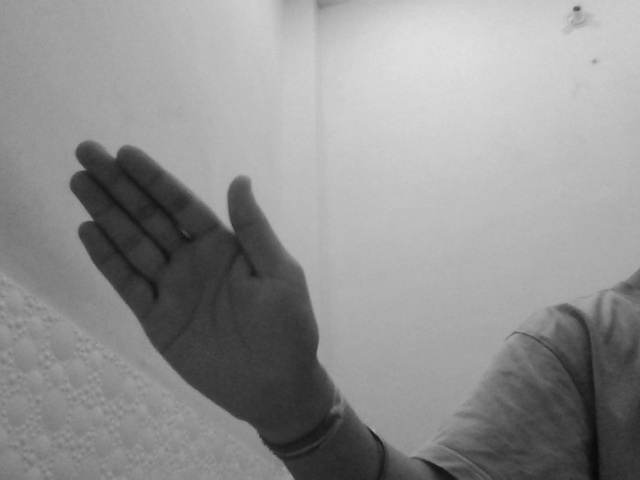Hello: (67, 133, 320, 430)
